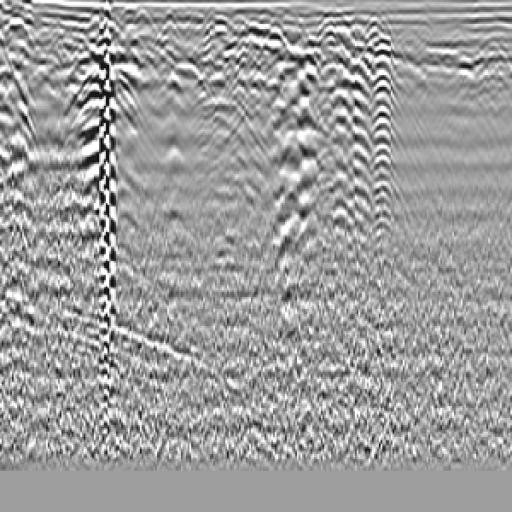metalic: (174, 10, 288, 172)
